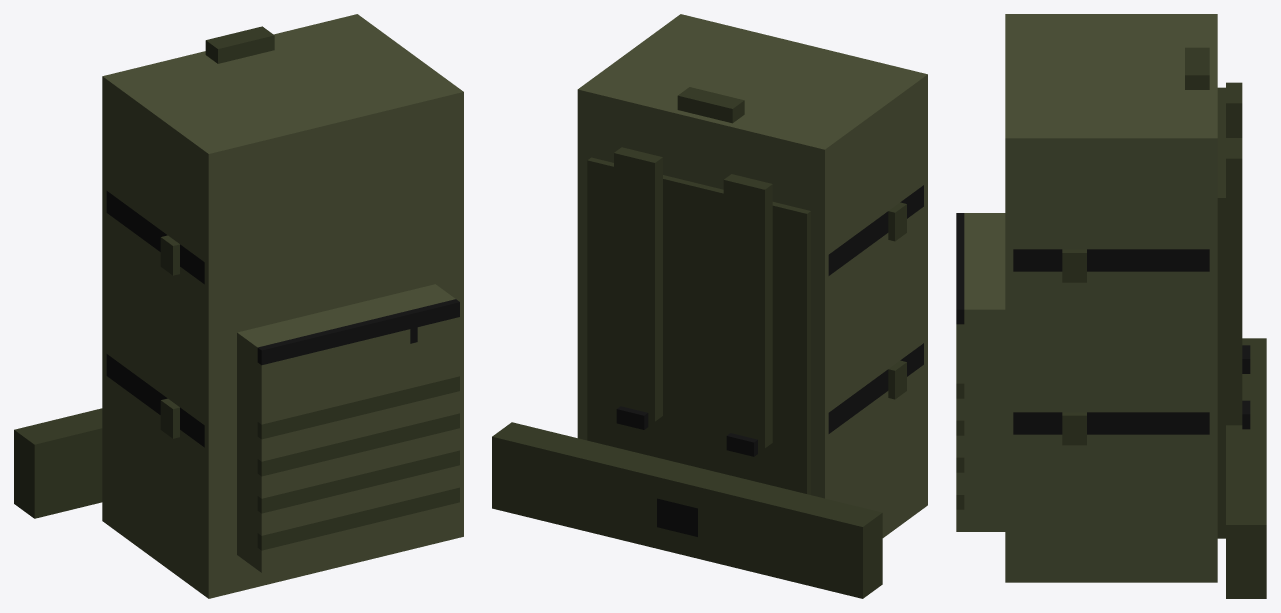
The model's file is backpack_tactical_large.glb.
3 views of the same model, side by side, from view 1: azimuth 30°, elevation 25°; view 2: azimuth 150°, elevation 25°; view 3: azimuth 270°, elevation 25° (orthographic). The views are drawn at different scales.
Visible parts, largest first — view 1: backpack_tactical_large:compound; view 2: backpack_tactical_large:compound; view 3: backpack_tactical_large:compound.
Boxes of the visible parts, bbox=[...] form: backpack_tactical_large:compound: bbox=[14, 14, 463, 598]; backpack_tactical_large:compound: bbox=[492, 14, 927, 598]; backpack_tactical_large:compound: bbox=[956, 14, 1266, 598].
Bounding box in the file's own units: 0.54 × 0.62 × 0.38.
